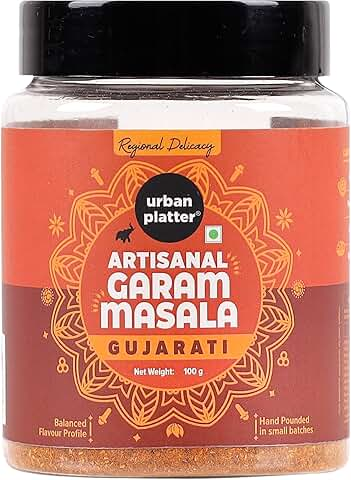Garamasala: (1, 1, 351, 480)
